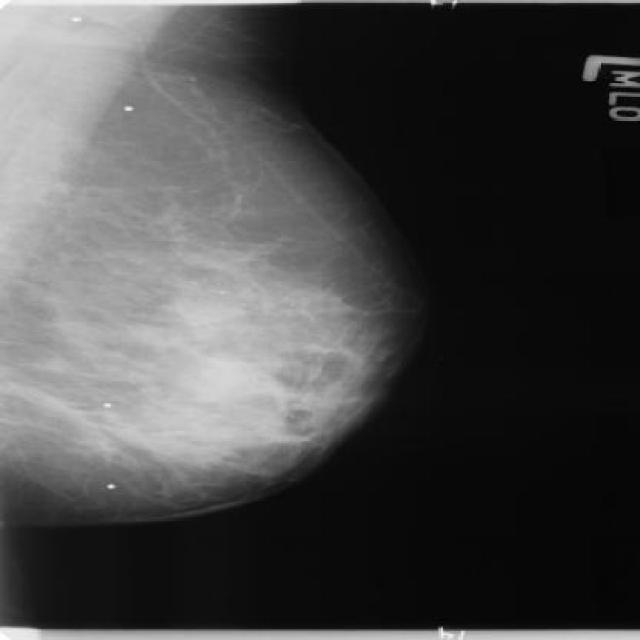tumor: (126, 251, 329, 478)
